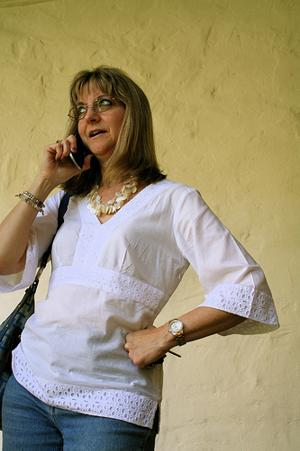person: (5, 68, 278, 450)
